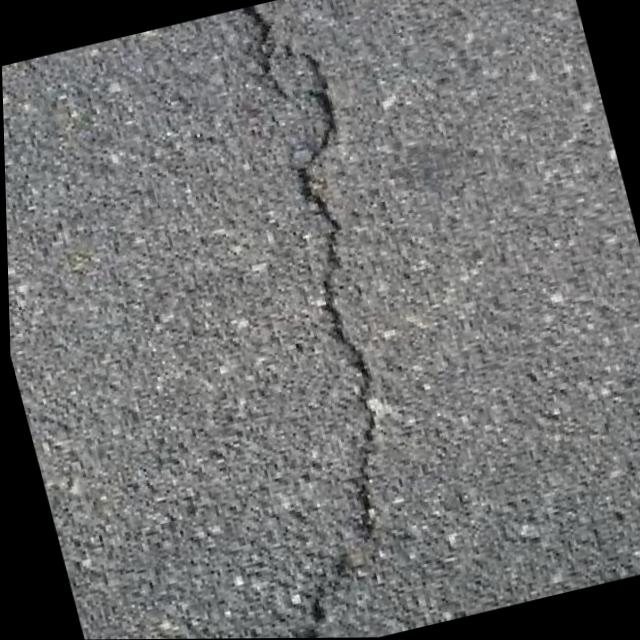Crack: (94, 0, 489, 639)
